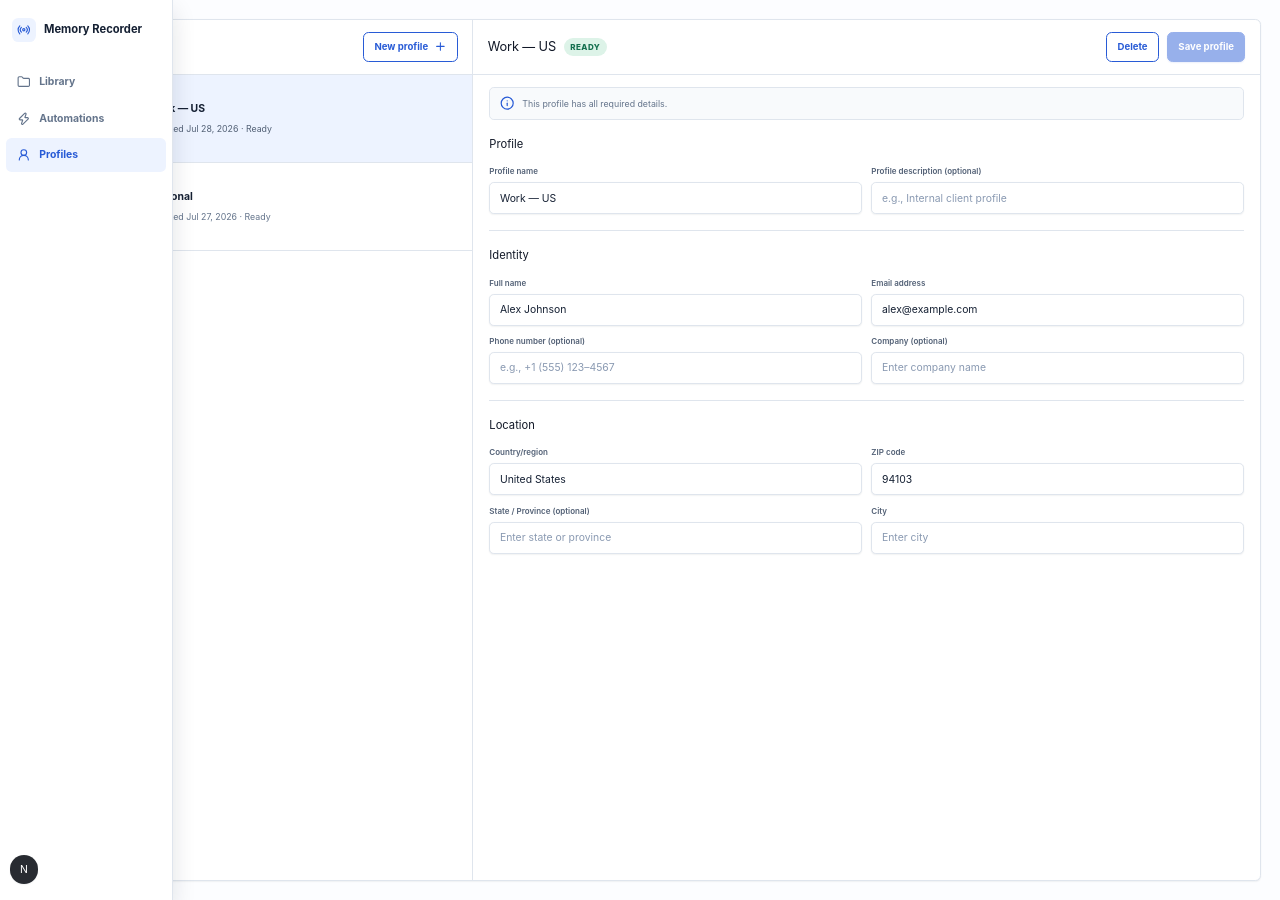
it: ProfileScreen › preserves edits on conflict and can reload the saved version
Replace the text in the field labelled "Full name" with "Local edit" at (676, 310), box [489,294,862,326]
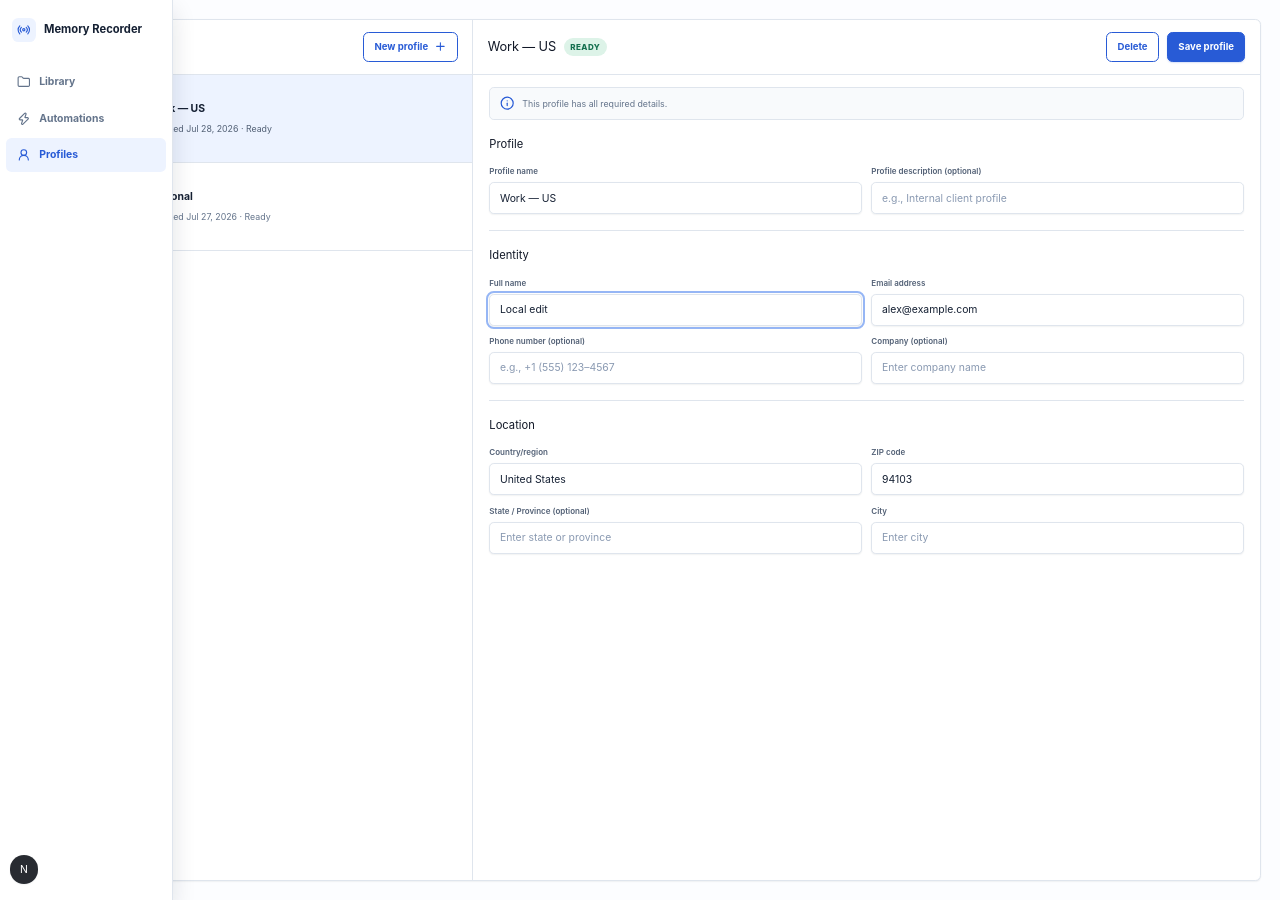
Click the button "Save profile" at (1206, 47), box [1167,32,1246,62]
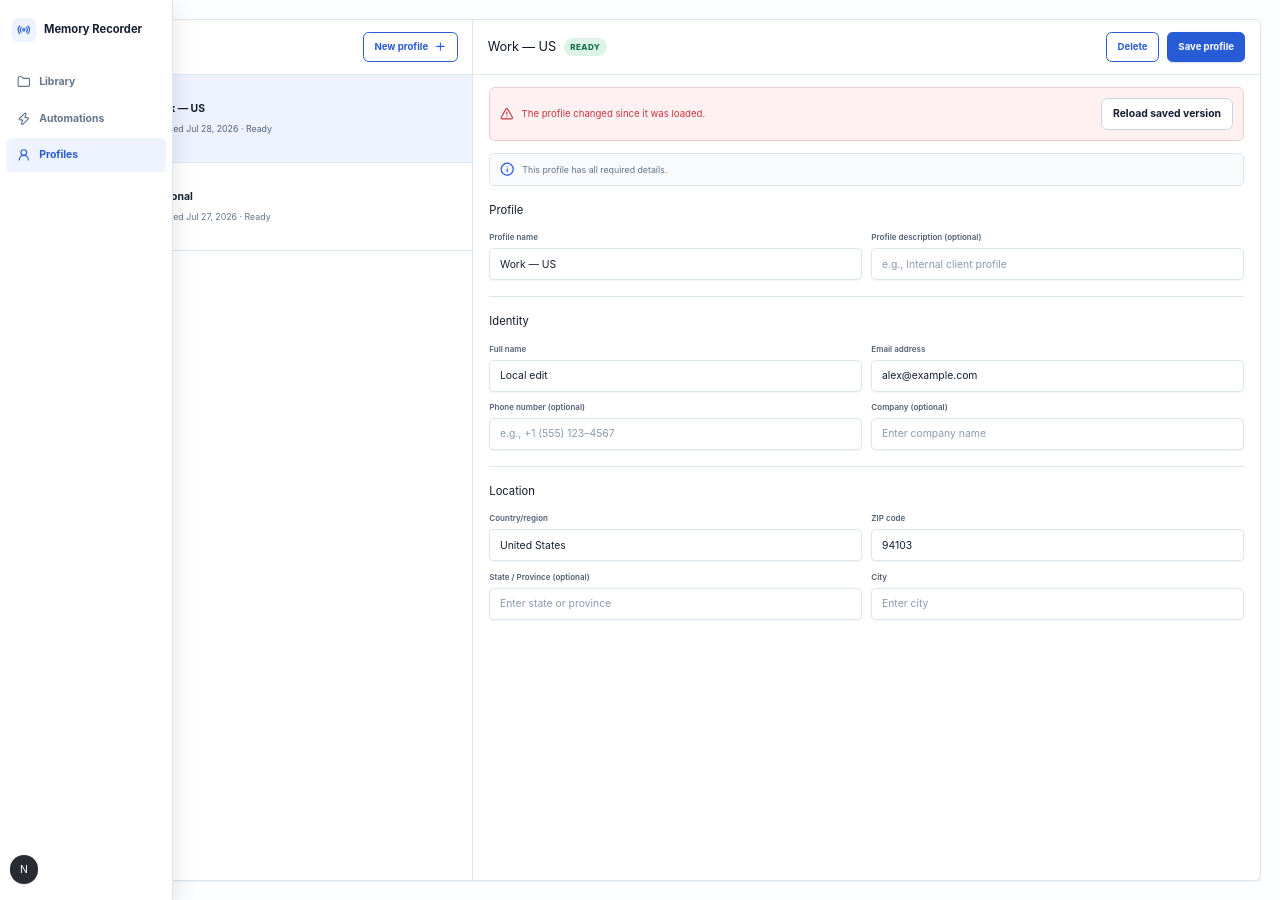
Now the message shows "changed since it was loaded", box [522,108,705,119]
Click the button "Reload saved version" at (1167, 114), box [1101,98,1233,130]
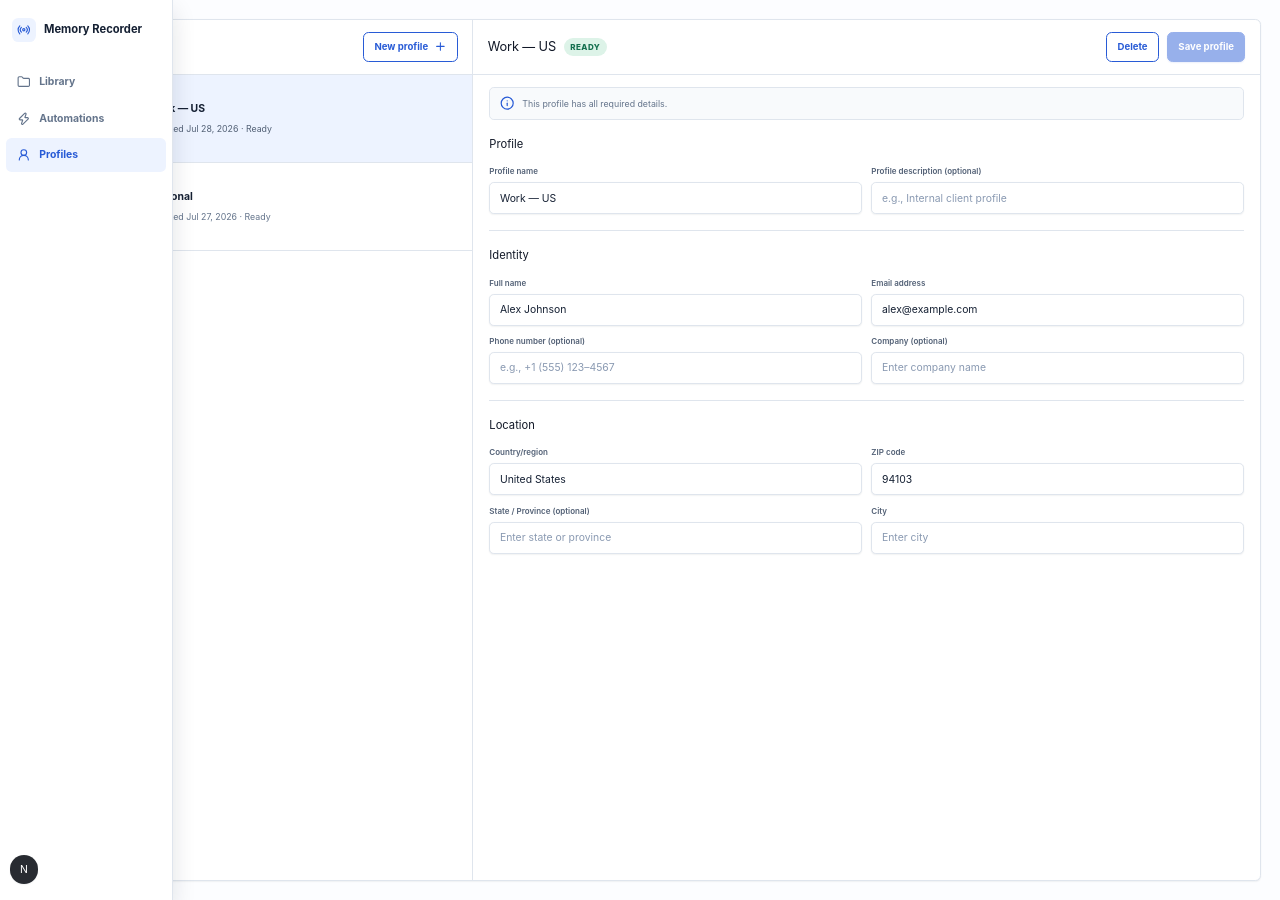
Now the field labelled "Full name" holds "Alex Johnson", box [489,294,862,326]
